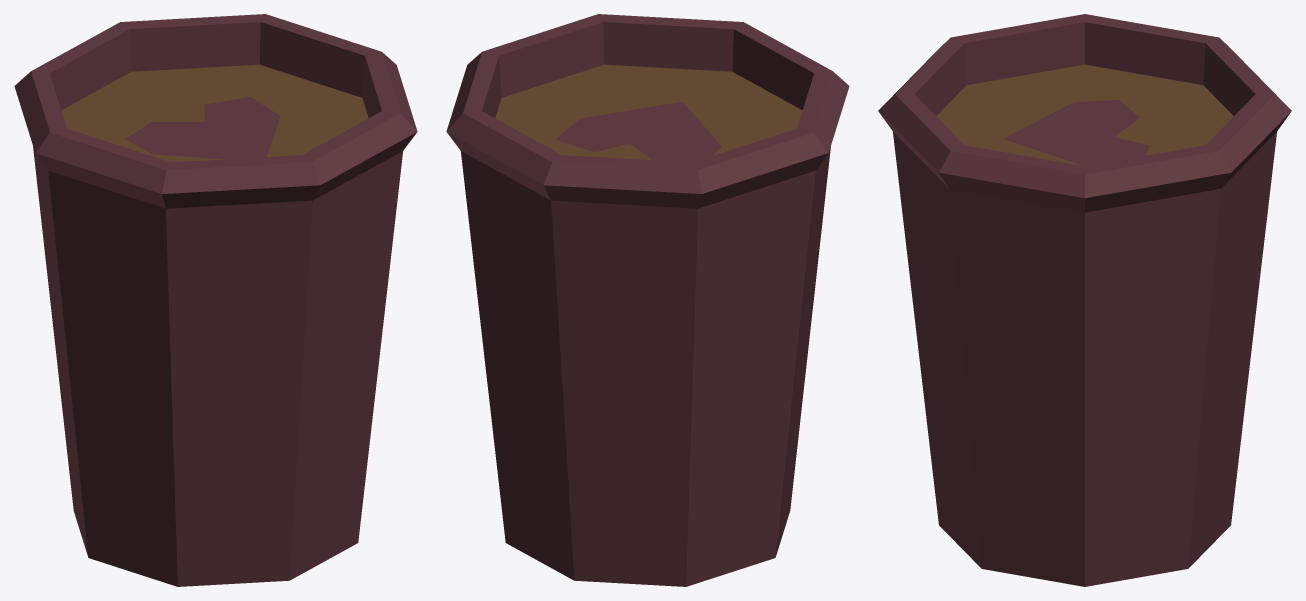
Rendered from cup-small-decoration-coffee.fbx.
3 renders of one model, left to right at view 1: azimuth 30°, elevation 25°; view 2: azimuth 150°, elevation 25°; view 3: azimuth 270°, elevation 25°, orthographic.
Visible parts, largest first — view 1: cup-small-decoration-coffee; view 2: cup-small-decoration-coffee; view 3: cup-small-decoration-coffee.
Boxes of the visible parts, x1=… form: cup-small-decoration-coffee: x1=14, y1=14, x2=417, y2=586; cup-small-decoration-coffee: x1=446, y1=14, x2=849, y2=586; cup-small-decoration-coffee: x1=878, y1=14, x2=1291, y2=586.
Size of the model in its own units: 0.0656 by 0.0754 by 0.0656.
